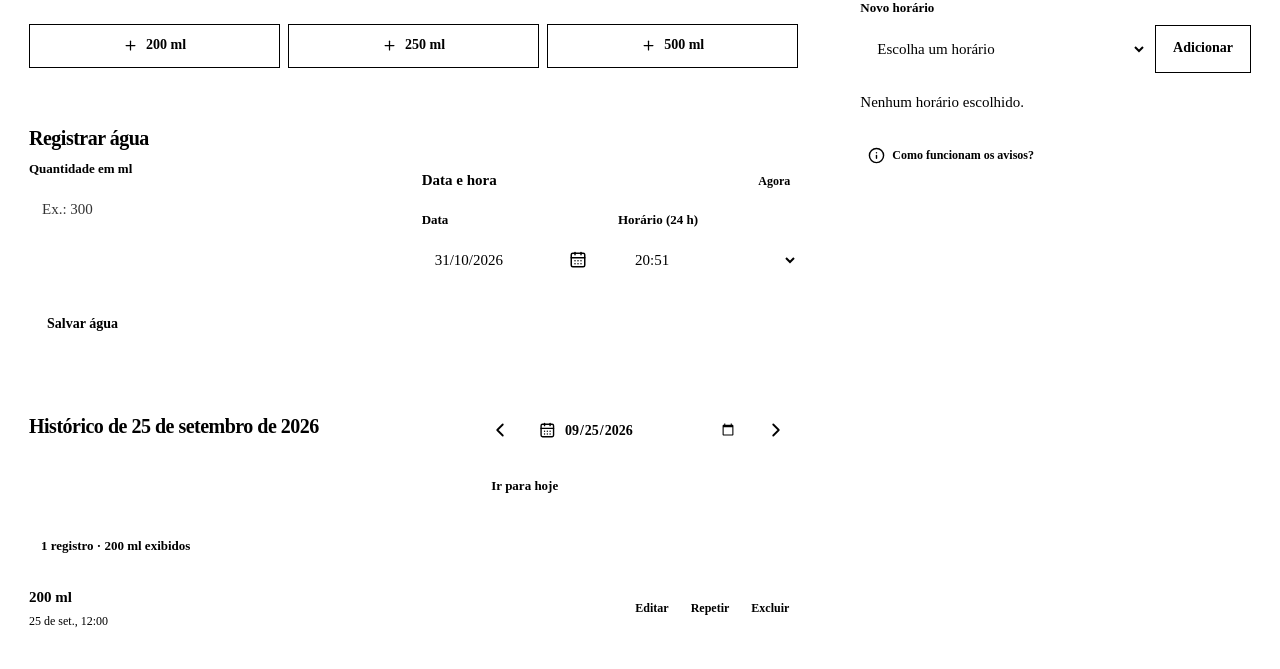
Scenario: edição de uma entrada de água › mantém o rascunho quando o volume é inválido ou o registro mudou
(page scrolled)
Click the button with aria-label "Editar água de 200 ml" at [652, 608], box x1=626 y1=586 x2=678 y2=630
(page scrolled)
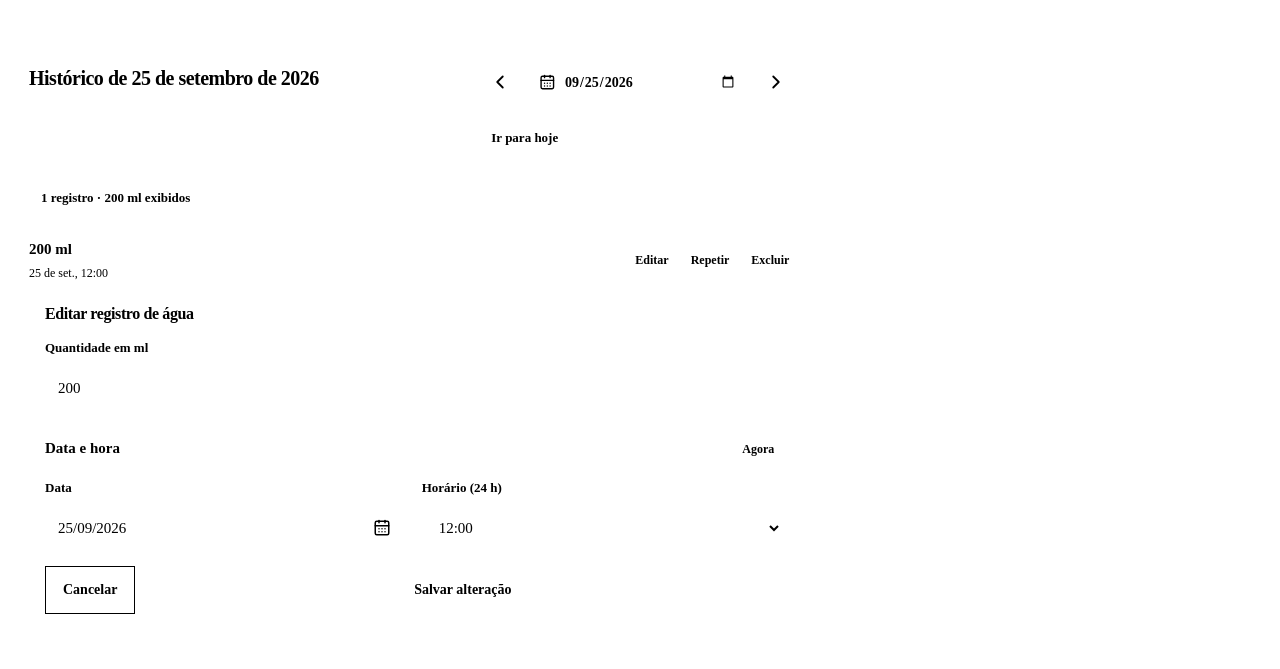
Replace the text in the field labelled "Quantidade em ml" with "10001" at [427, 389], box x1=45 y1=365 x2=808 y2=413
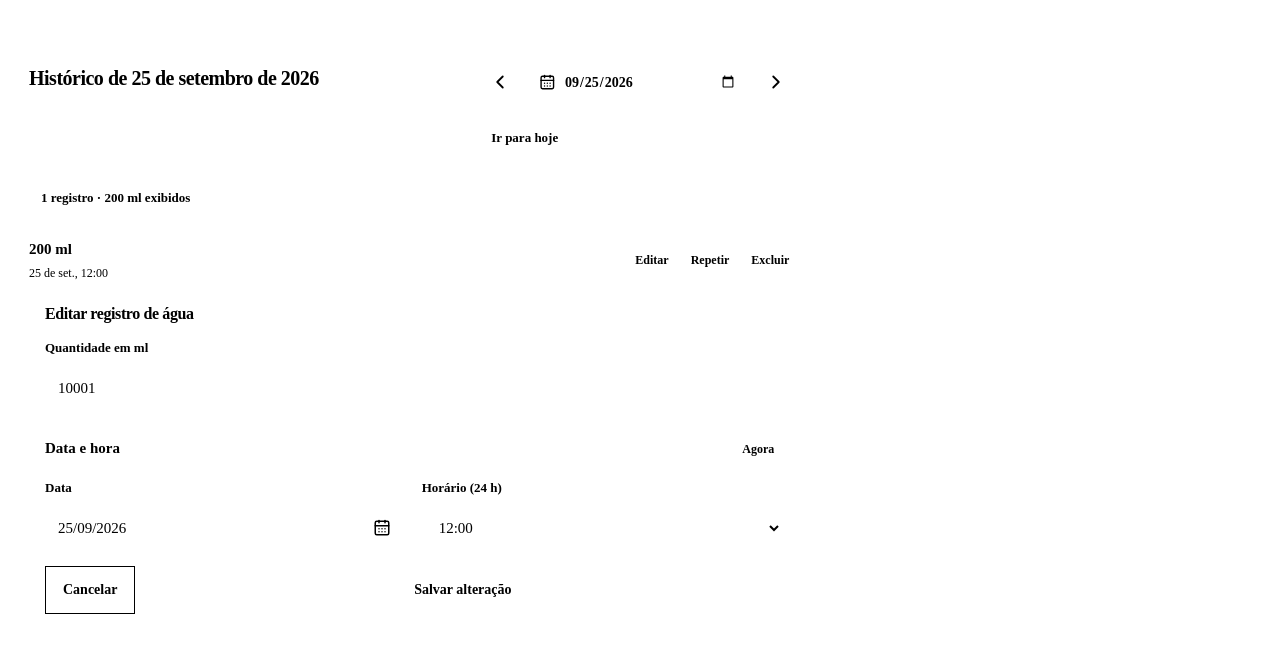
Click the button "Salvar alteração" at [463, 590], box x1=143 y1=566 x2=782 y2=614
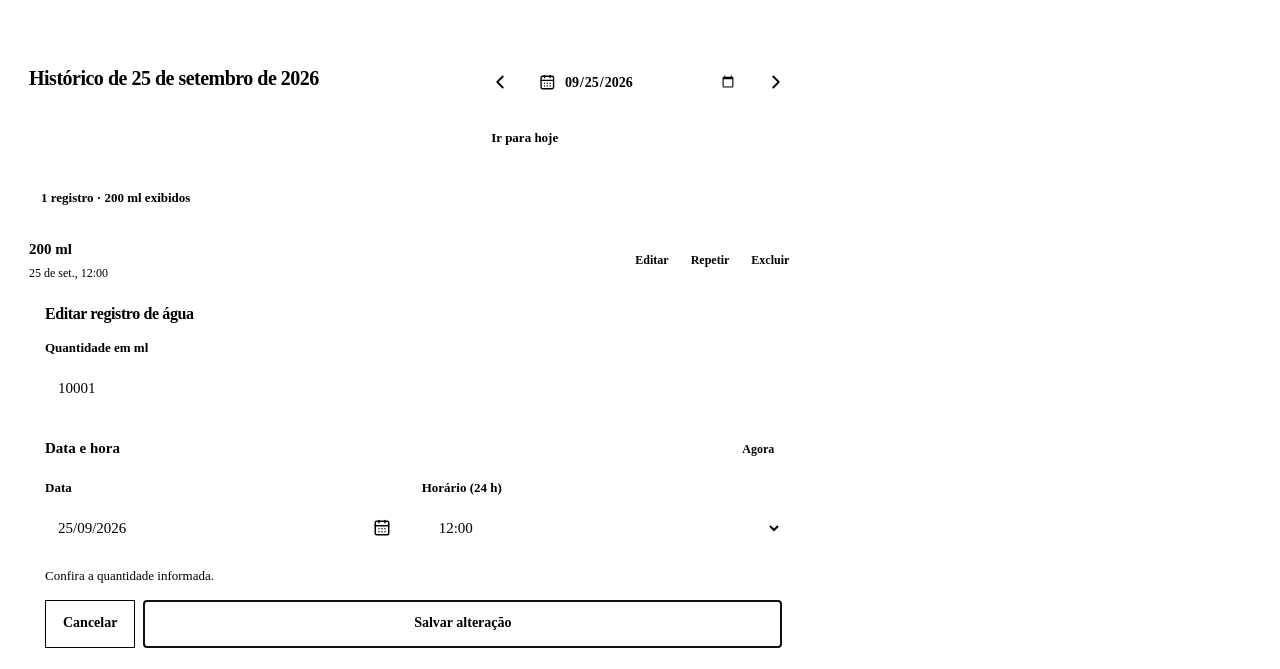
Expected: the message shows "Confira a quantidade", x1=45 y1=568 x2=214 y2=583
Replace the text in the field labelled "Quantidade em ml" with "300" at [427, 389], box x1=45 y1=365 x2=808 y2=413
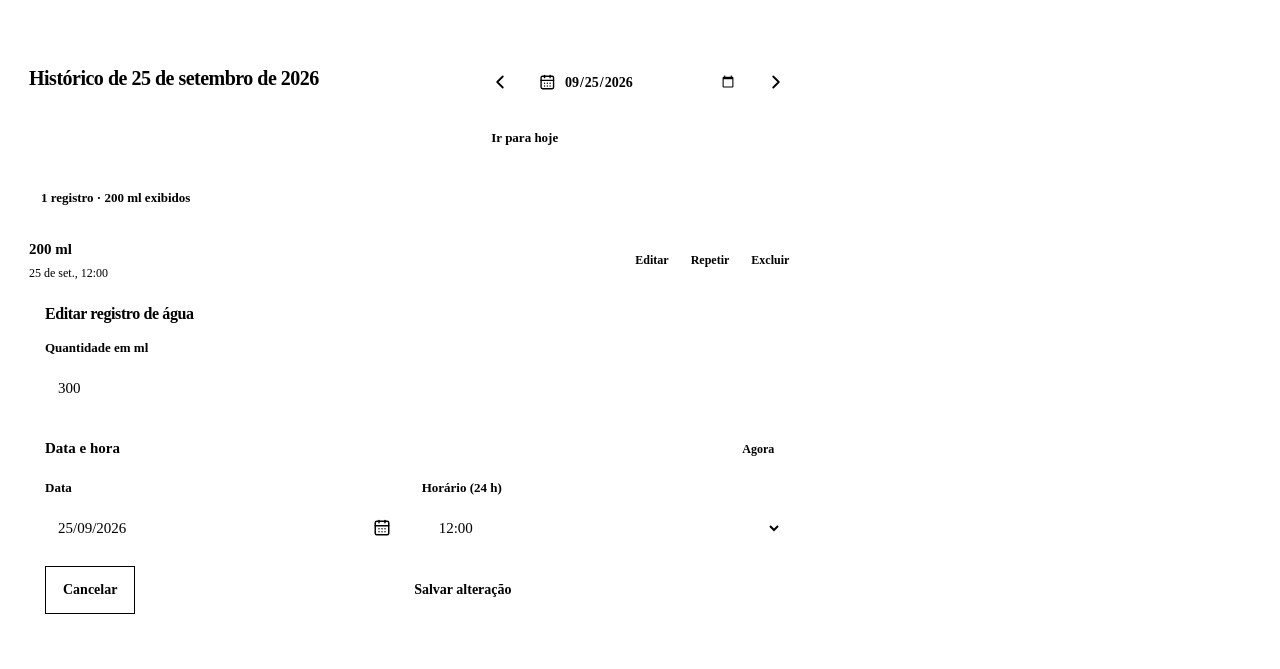
Click the button "Salvar alteração" at [463, 590], box x1=143 y1=566 x2=782 y2=614
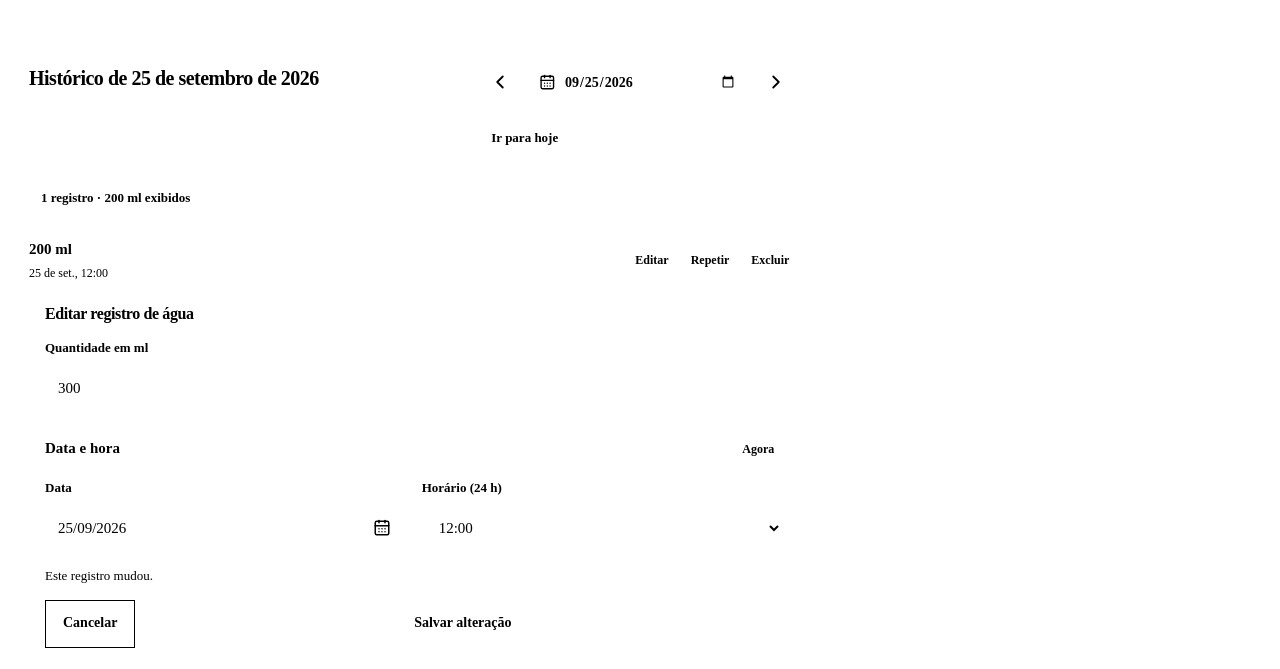
Expected: the message reads "Este registro mudou.", x1=45 y1=568 x2=153 y2=583
